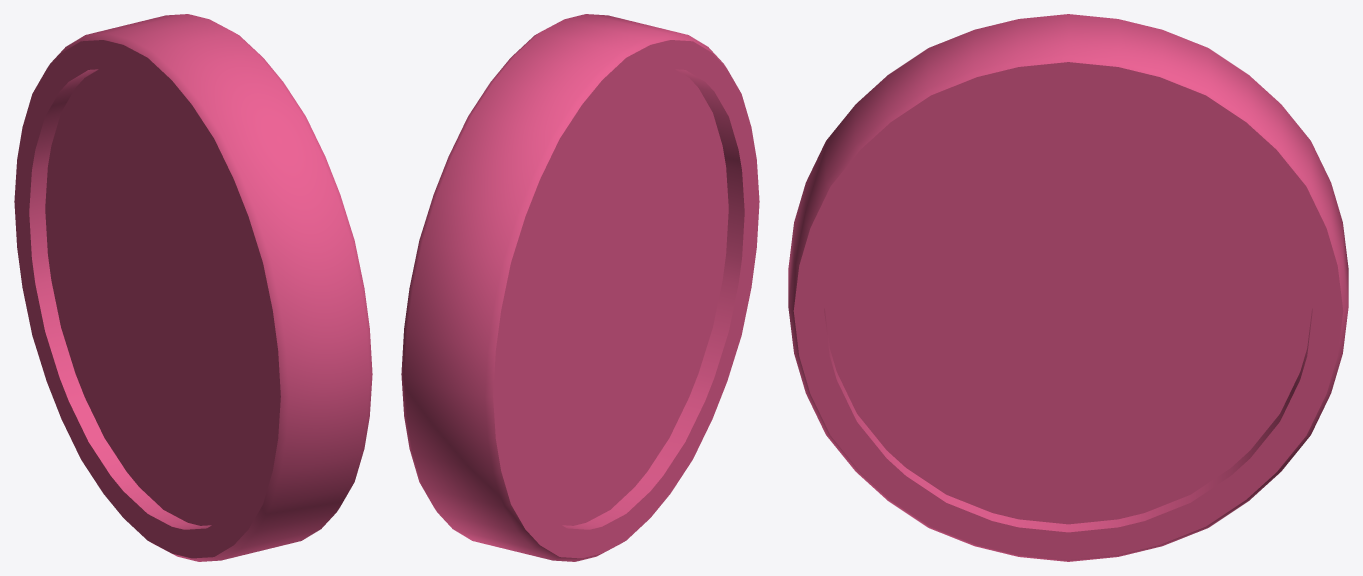
The model's file is WheelHandle.fbx.
3 renders of one model, left to right at view 1: azimuth 30°, elevation 25°; view 2: azimuth 150°, elevation 25°; view 3: azimuth 270°, elevation 25°, orthographic. The views are drawn at different scales.
Visible parts, largest first — view 1: Wheelhandle1; view 2: Wheelhandle1; view 3: Wheelhandle1.
Part boxes in pixels (box(x1,y1,x2,y2)): Wheelhandle1: box(14, 14, 372, 561); Wheelhandle1: box(401, 14, 759, 561); Wheelhandle1: box(788, 14, 1348, 561).
Size of the model in its own units: 1.38 by 7.06 by 7.06.
